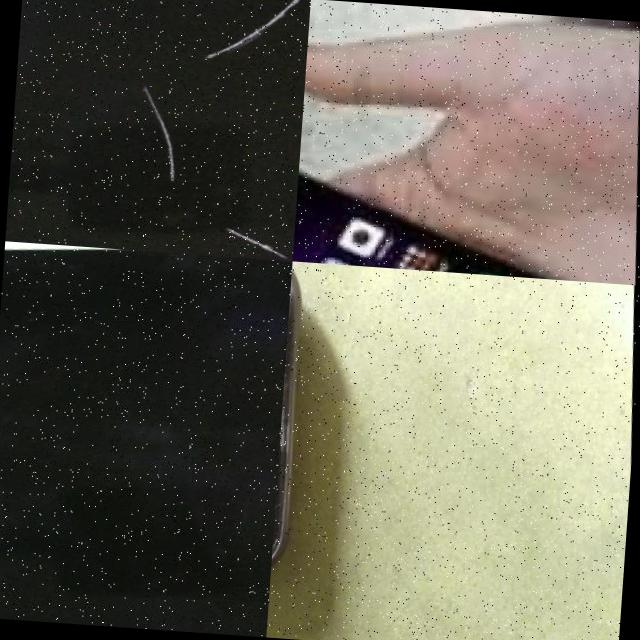scratch: (112, 70, 206, 184), (191, 0, 310, 62), (216, 213, 295, 261)
screen crack: (271, 261, 334, 561)
